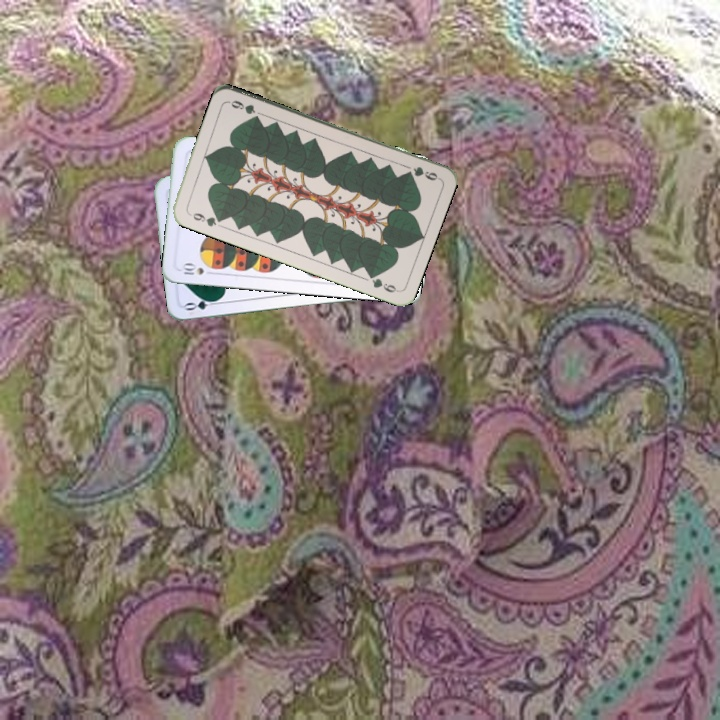G9: (403, 163, 442, 183), (188, 209, 225, 229)
GO: (181, 295, 222, 313)
S10: (179, 260, 217, 277)
